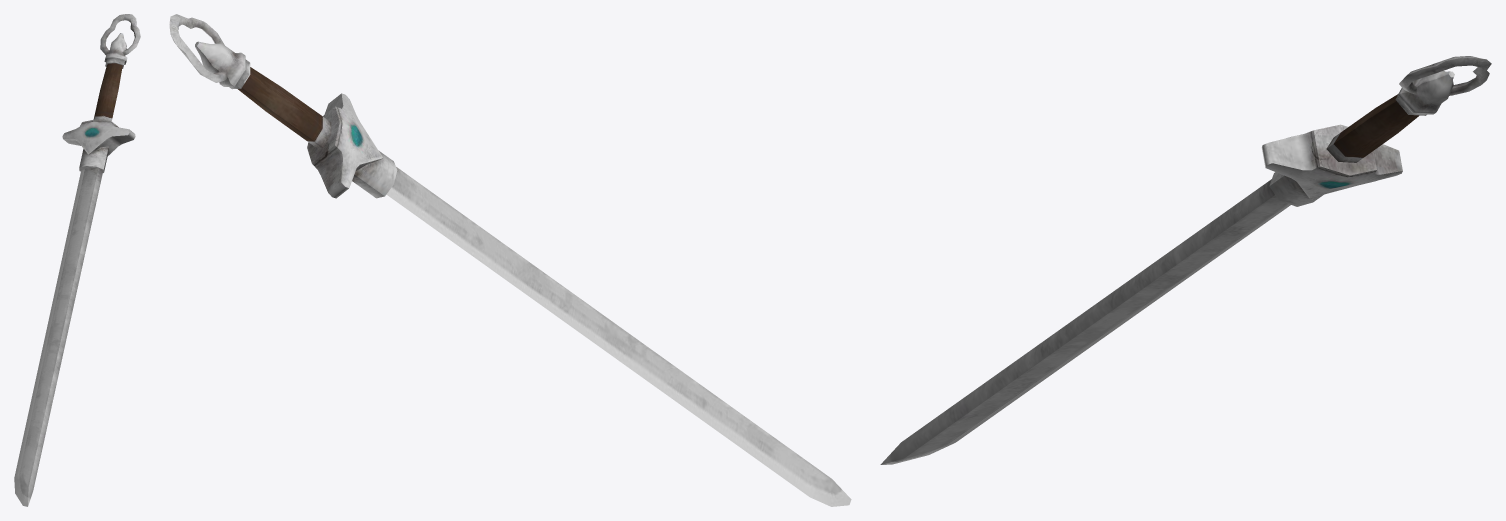
File: weapon-bronzeweapons.glb
3 renders of one model, left to right at view 1: azimuth 30°, elevation 25°; view 2: azimuth 150°, elevation 25°; view 3: azimuth 270°, elevation 25°, orthographic. The views are drawn at different scales.
Size of the model in its own units: 0.6928 by 0.8574 by 0.7289.
1 material, 1 textured.
